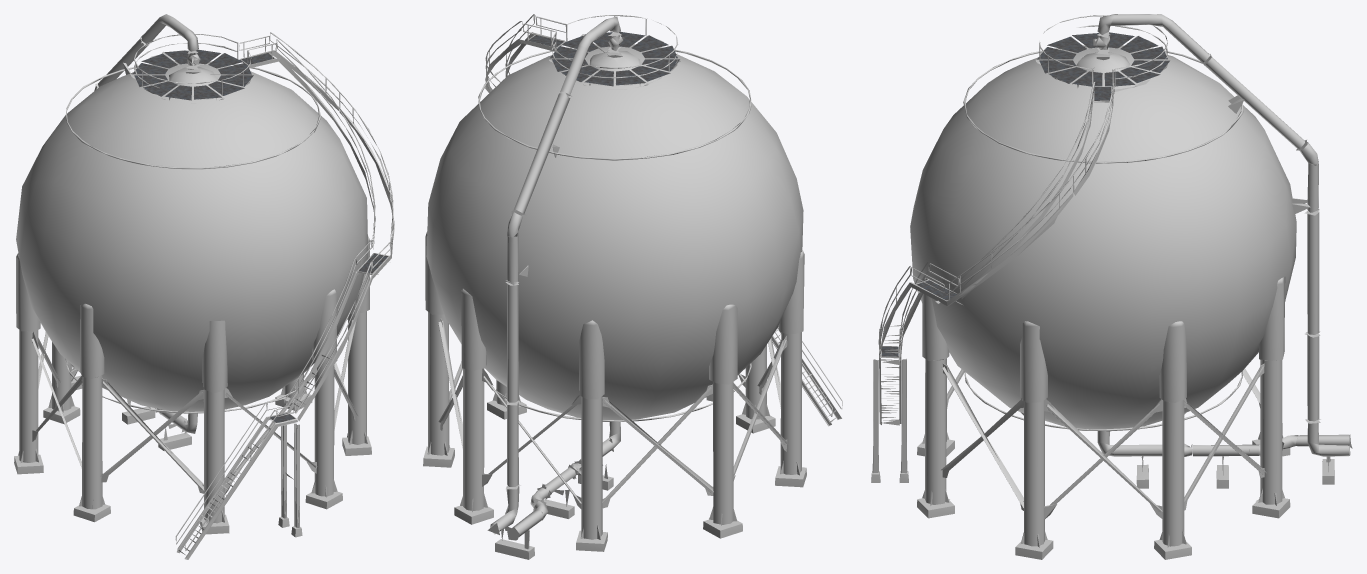
Rendered from SM_SphericalTank_01.fbx.
3 renders of one model, left to right at view 1: azimuth 30°, elevation 25°; view 2: azimuth 150°, elevation 25°; view 3: azimuth 270°, elevation 25°, orthographic. The views are drawn at different scales.
Parts seen in each view (by area): view 1: SM_SphericalTank_01_LOD0; view 2: SM_SphericalTank_01_LOD0; view 3: SM_SphericalTank_01_LOD0.
Boxes of the visible parts, x1,y1,x2,y2 form: SM_SphericalTank_01_LOD0: [14, 14, 394, 559]; SM_SphericalTank_01_LOD0: [423, 14, 842, 559]; SM_SphericalTank_01_LOD0: [871, 14, 1352, 559].
Bounding box in the file's own units: 2193 × 2740 × 2940.
